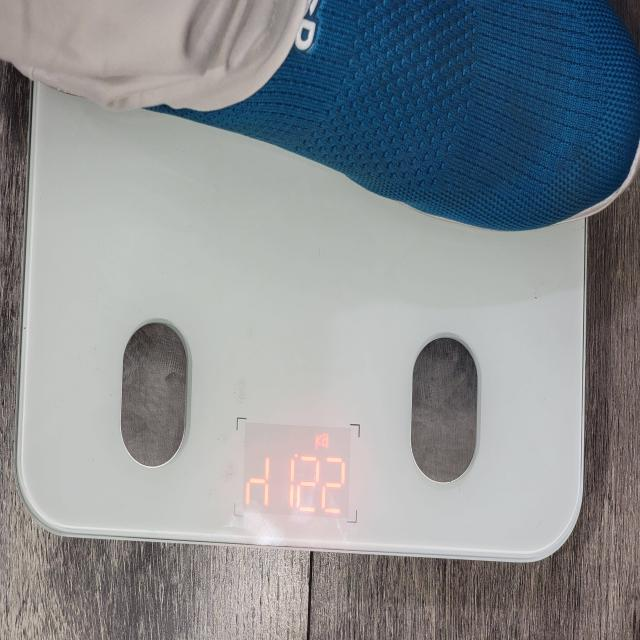ws: (29, 146, 530, 552)
